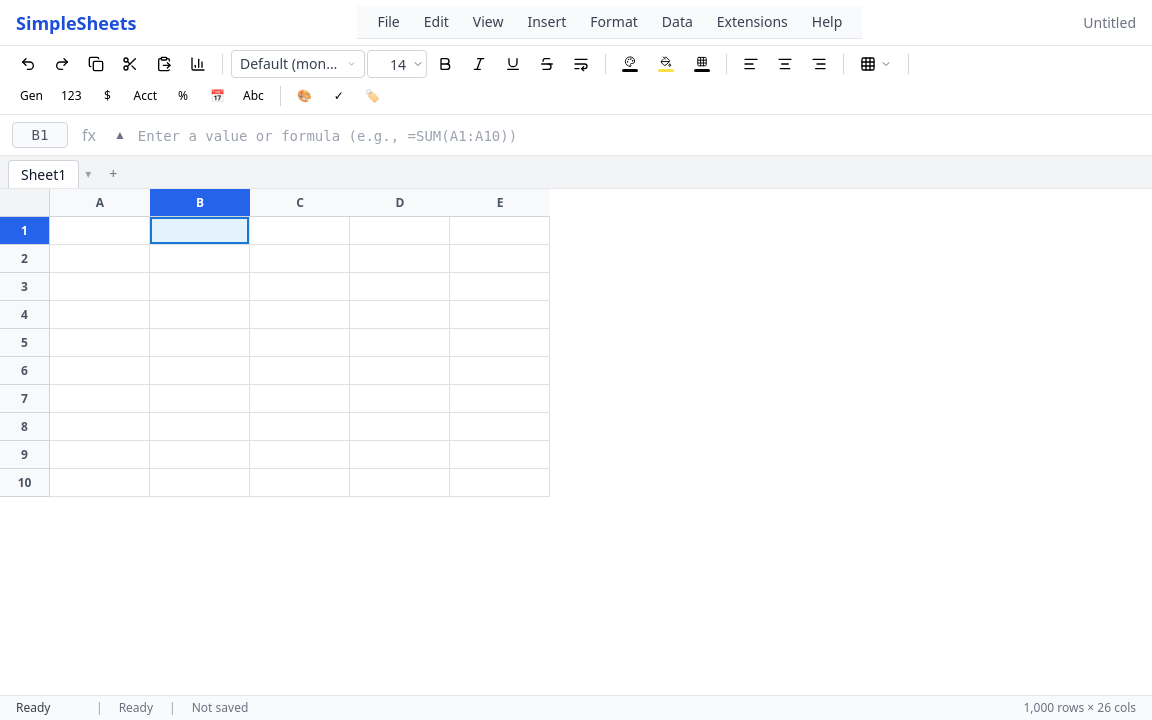
Test: Formula bar click preserves buffer › typing in grid then clicking formula bar then Enter commits typed value
Earlier steps of the test are not shown.
Press ArrowRight in the element showing "A B C D E 1 2 3 4 5 6 7 8 9 10", box [0, 189, 550, 497]
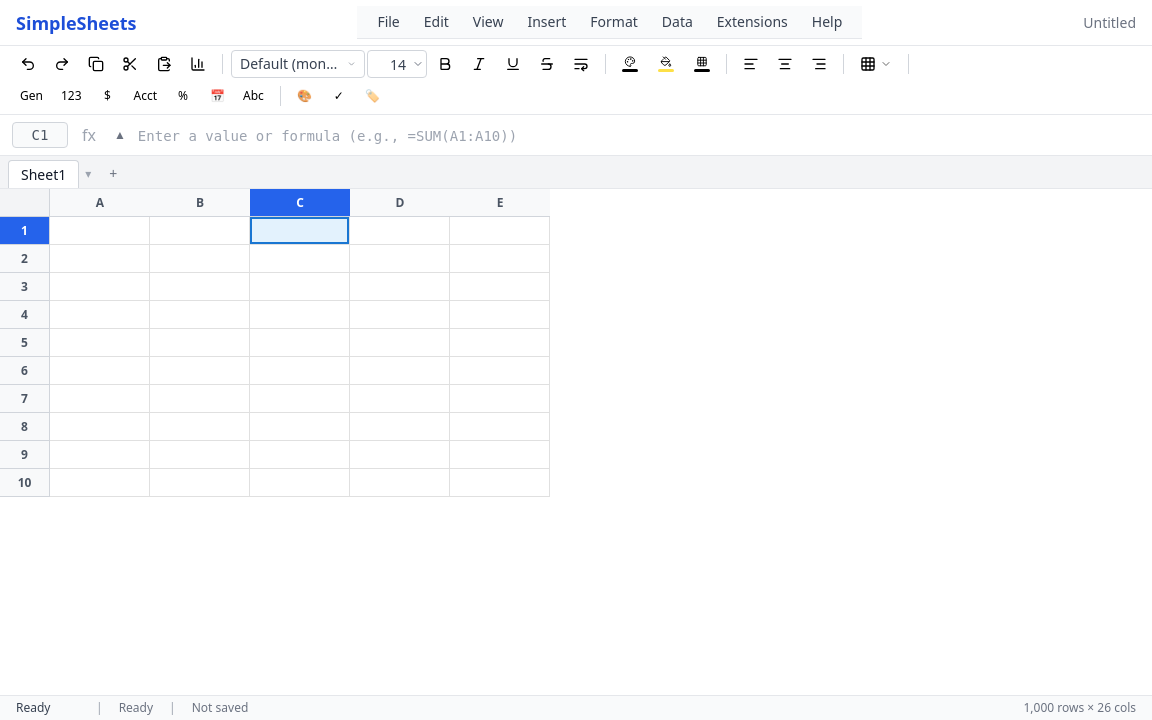
Press ArrowDown in the element showing "A B C D E 1 2 3 4 5 6 7 8 9 10", box [0, 189, 550, 497]
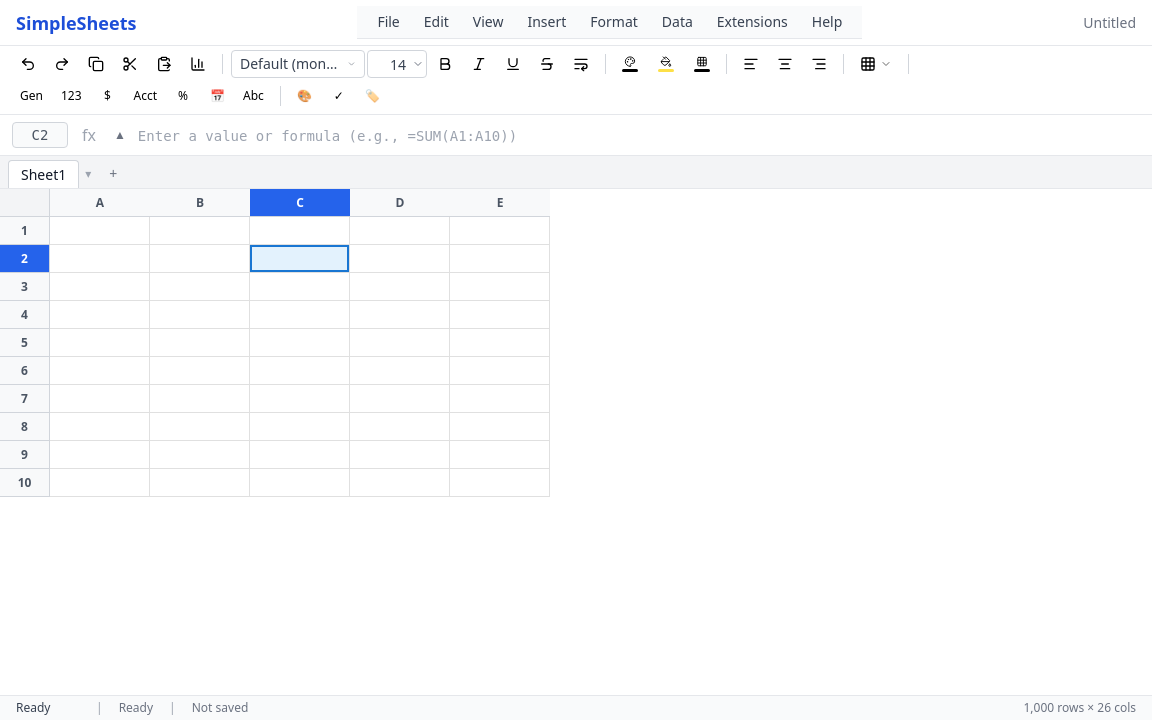
# Type '1' to start editing
Press 1 in the element showing "A B C D E 1 2 3 4 5 6 7 8 9 10", box [0, 189, 550, 497]
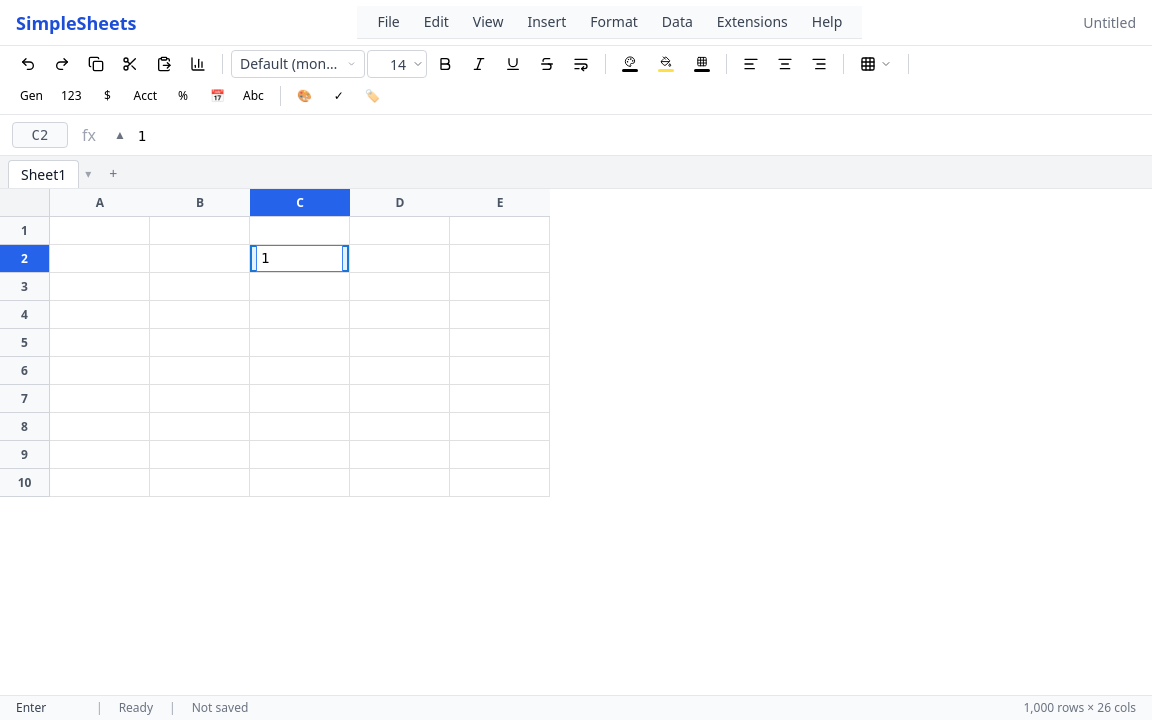
Result: the text with test id "cell-mode" reads "Enter" at [16, 699, 46, 716]
Result: the 3rd field is shown
Replace the text in the 3rd field with "123" at (300, 258), box [256, 244, 343, 272]
# Now click in the formula bar (this should NOT reset the buffer)
Focus the 1st field with placeholder "Enter a value or formula (e.g., =SUM(A1:A10))" at (639, 136), box [138, 126, 1140, 146]
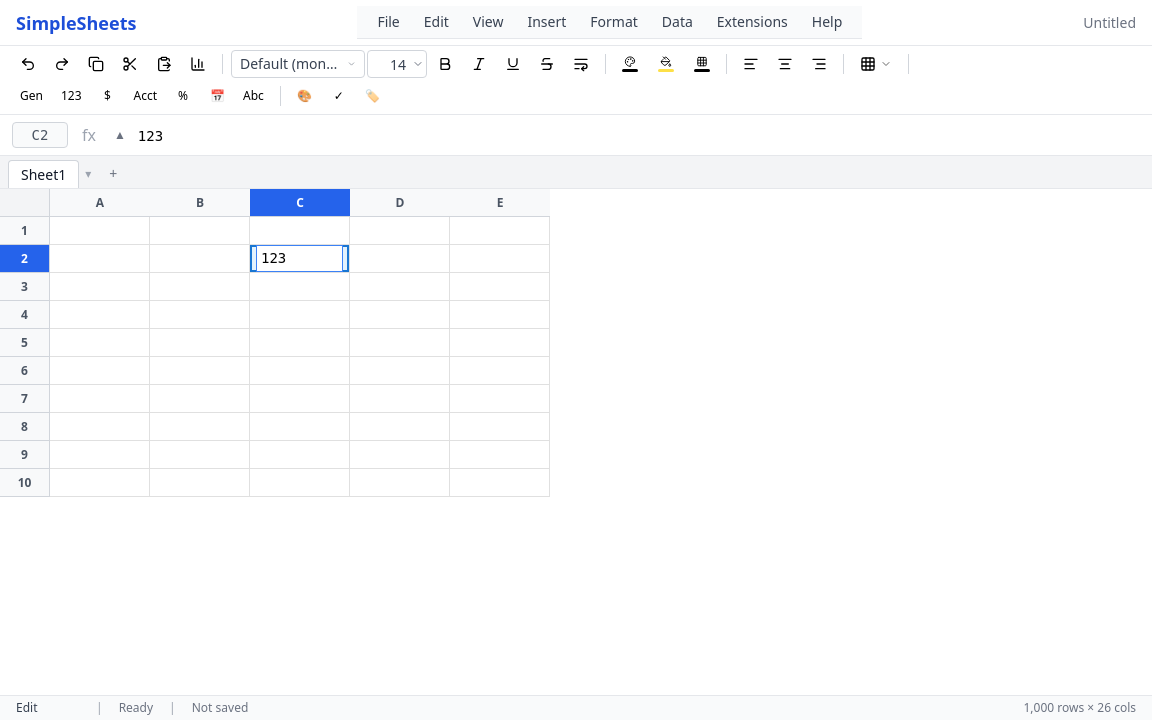
Result: the 1st field with placeholder "Enter a value or formula (e.g., =SUM(A1:A10))" holds "123"
# Press Enter in formula bar to commit
Press Enter in the 1st field with placeholder "Enter a value or formula (e.g., =SUM(A1:A10))", box [138, 126, 1140, 146]
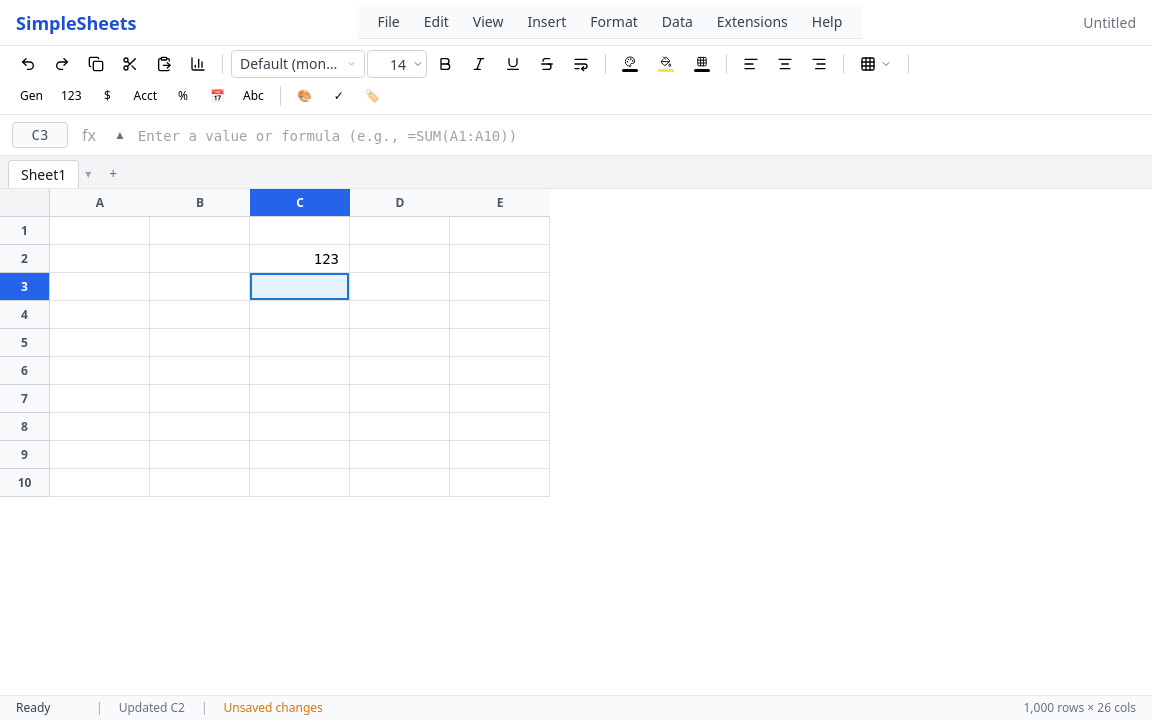
Result: the text with test id "cell-mode" reads "Ready" at [16, 699, 50, 716]
# Navigate back to C2 to verify the value was committed
Press ArrowUp in the element showing "A B C D E 1 2 123 3 4 5 6 7 8 9 10", box [0, 189, 550, 497]
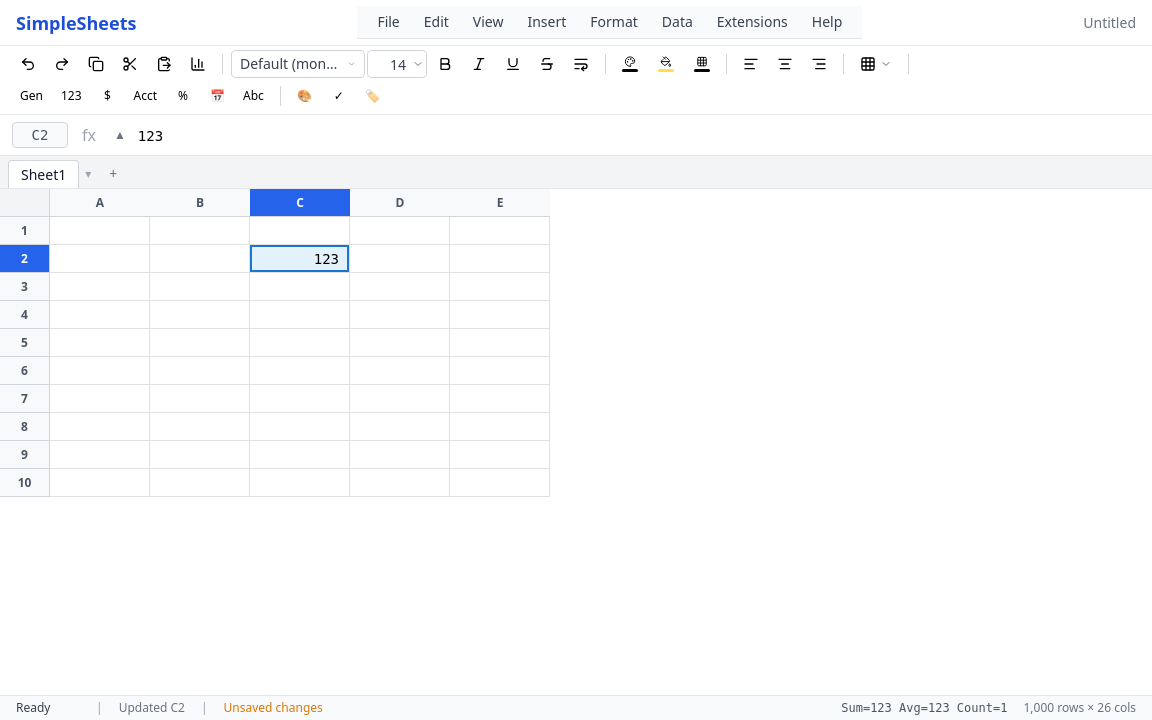
Result: the field with placeholder "Enter a value or formula (e.g., =SUM(A1:A10))" holds "123" at [138, 126, 1140, 146]
